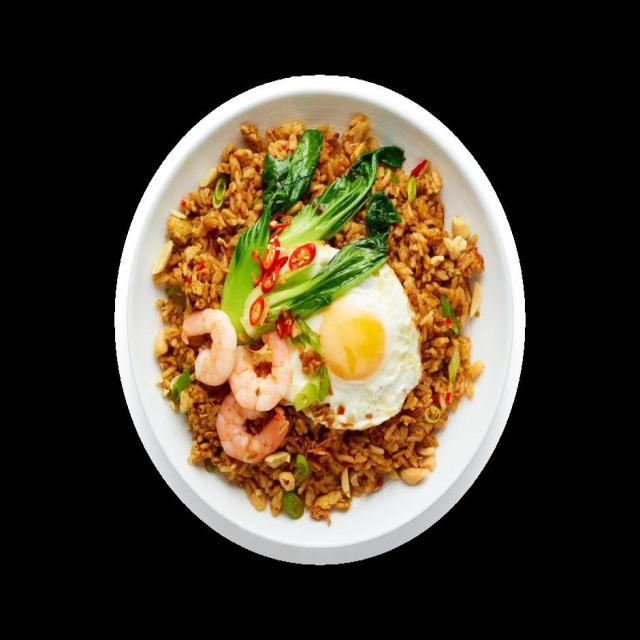Nasi Goreng: (152, 112, 485, 522)
